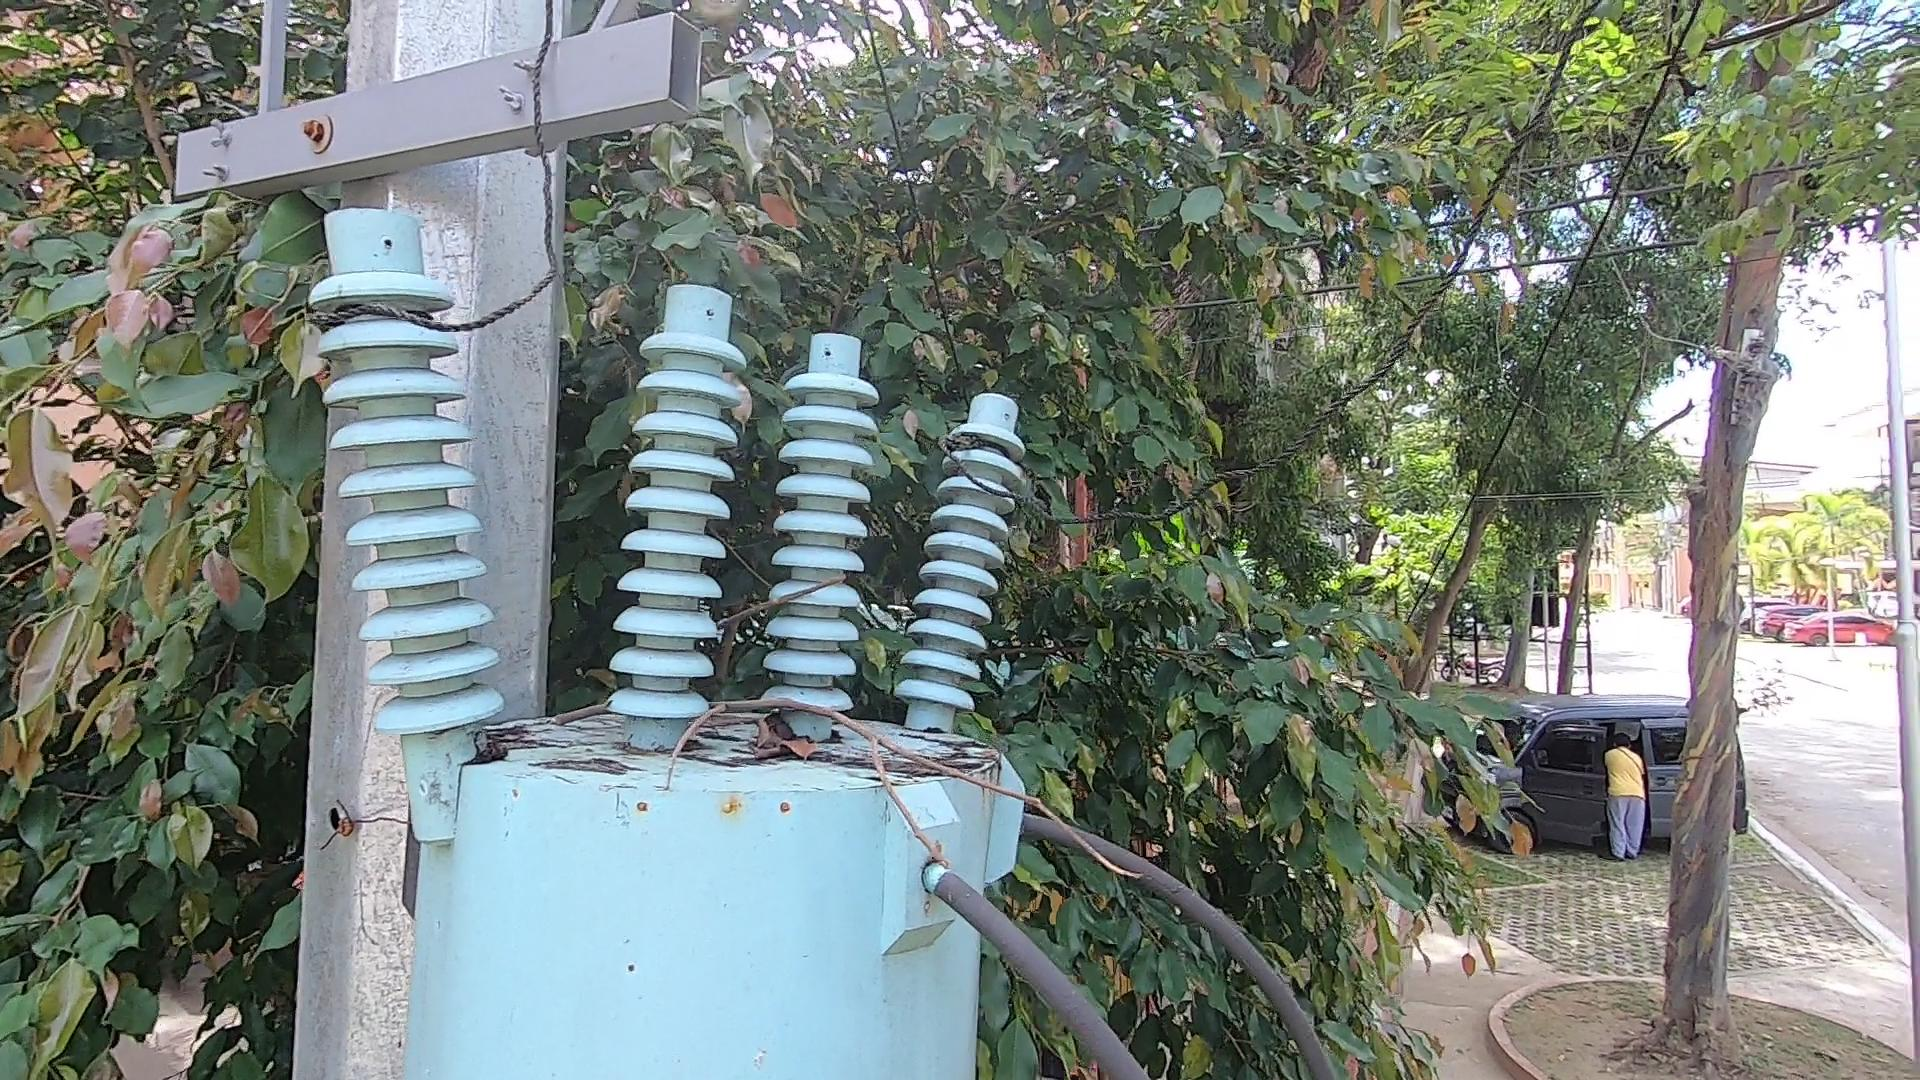leaf: (727, 687, 831, 769), (454, 728, 538, 778)
tree branch: (513, 659, 1145, 920)
